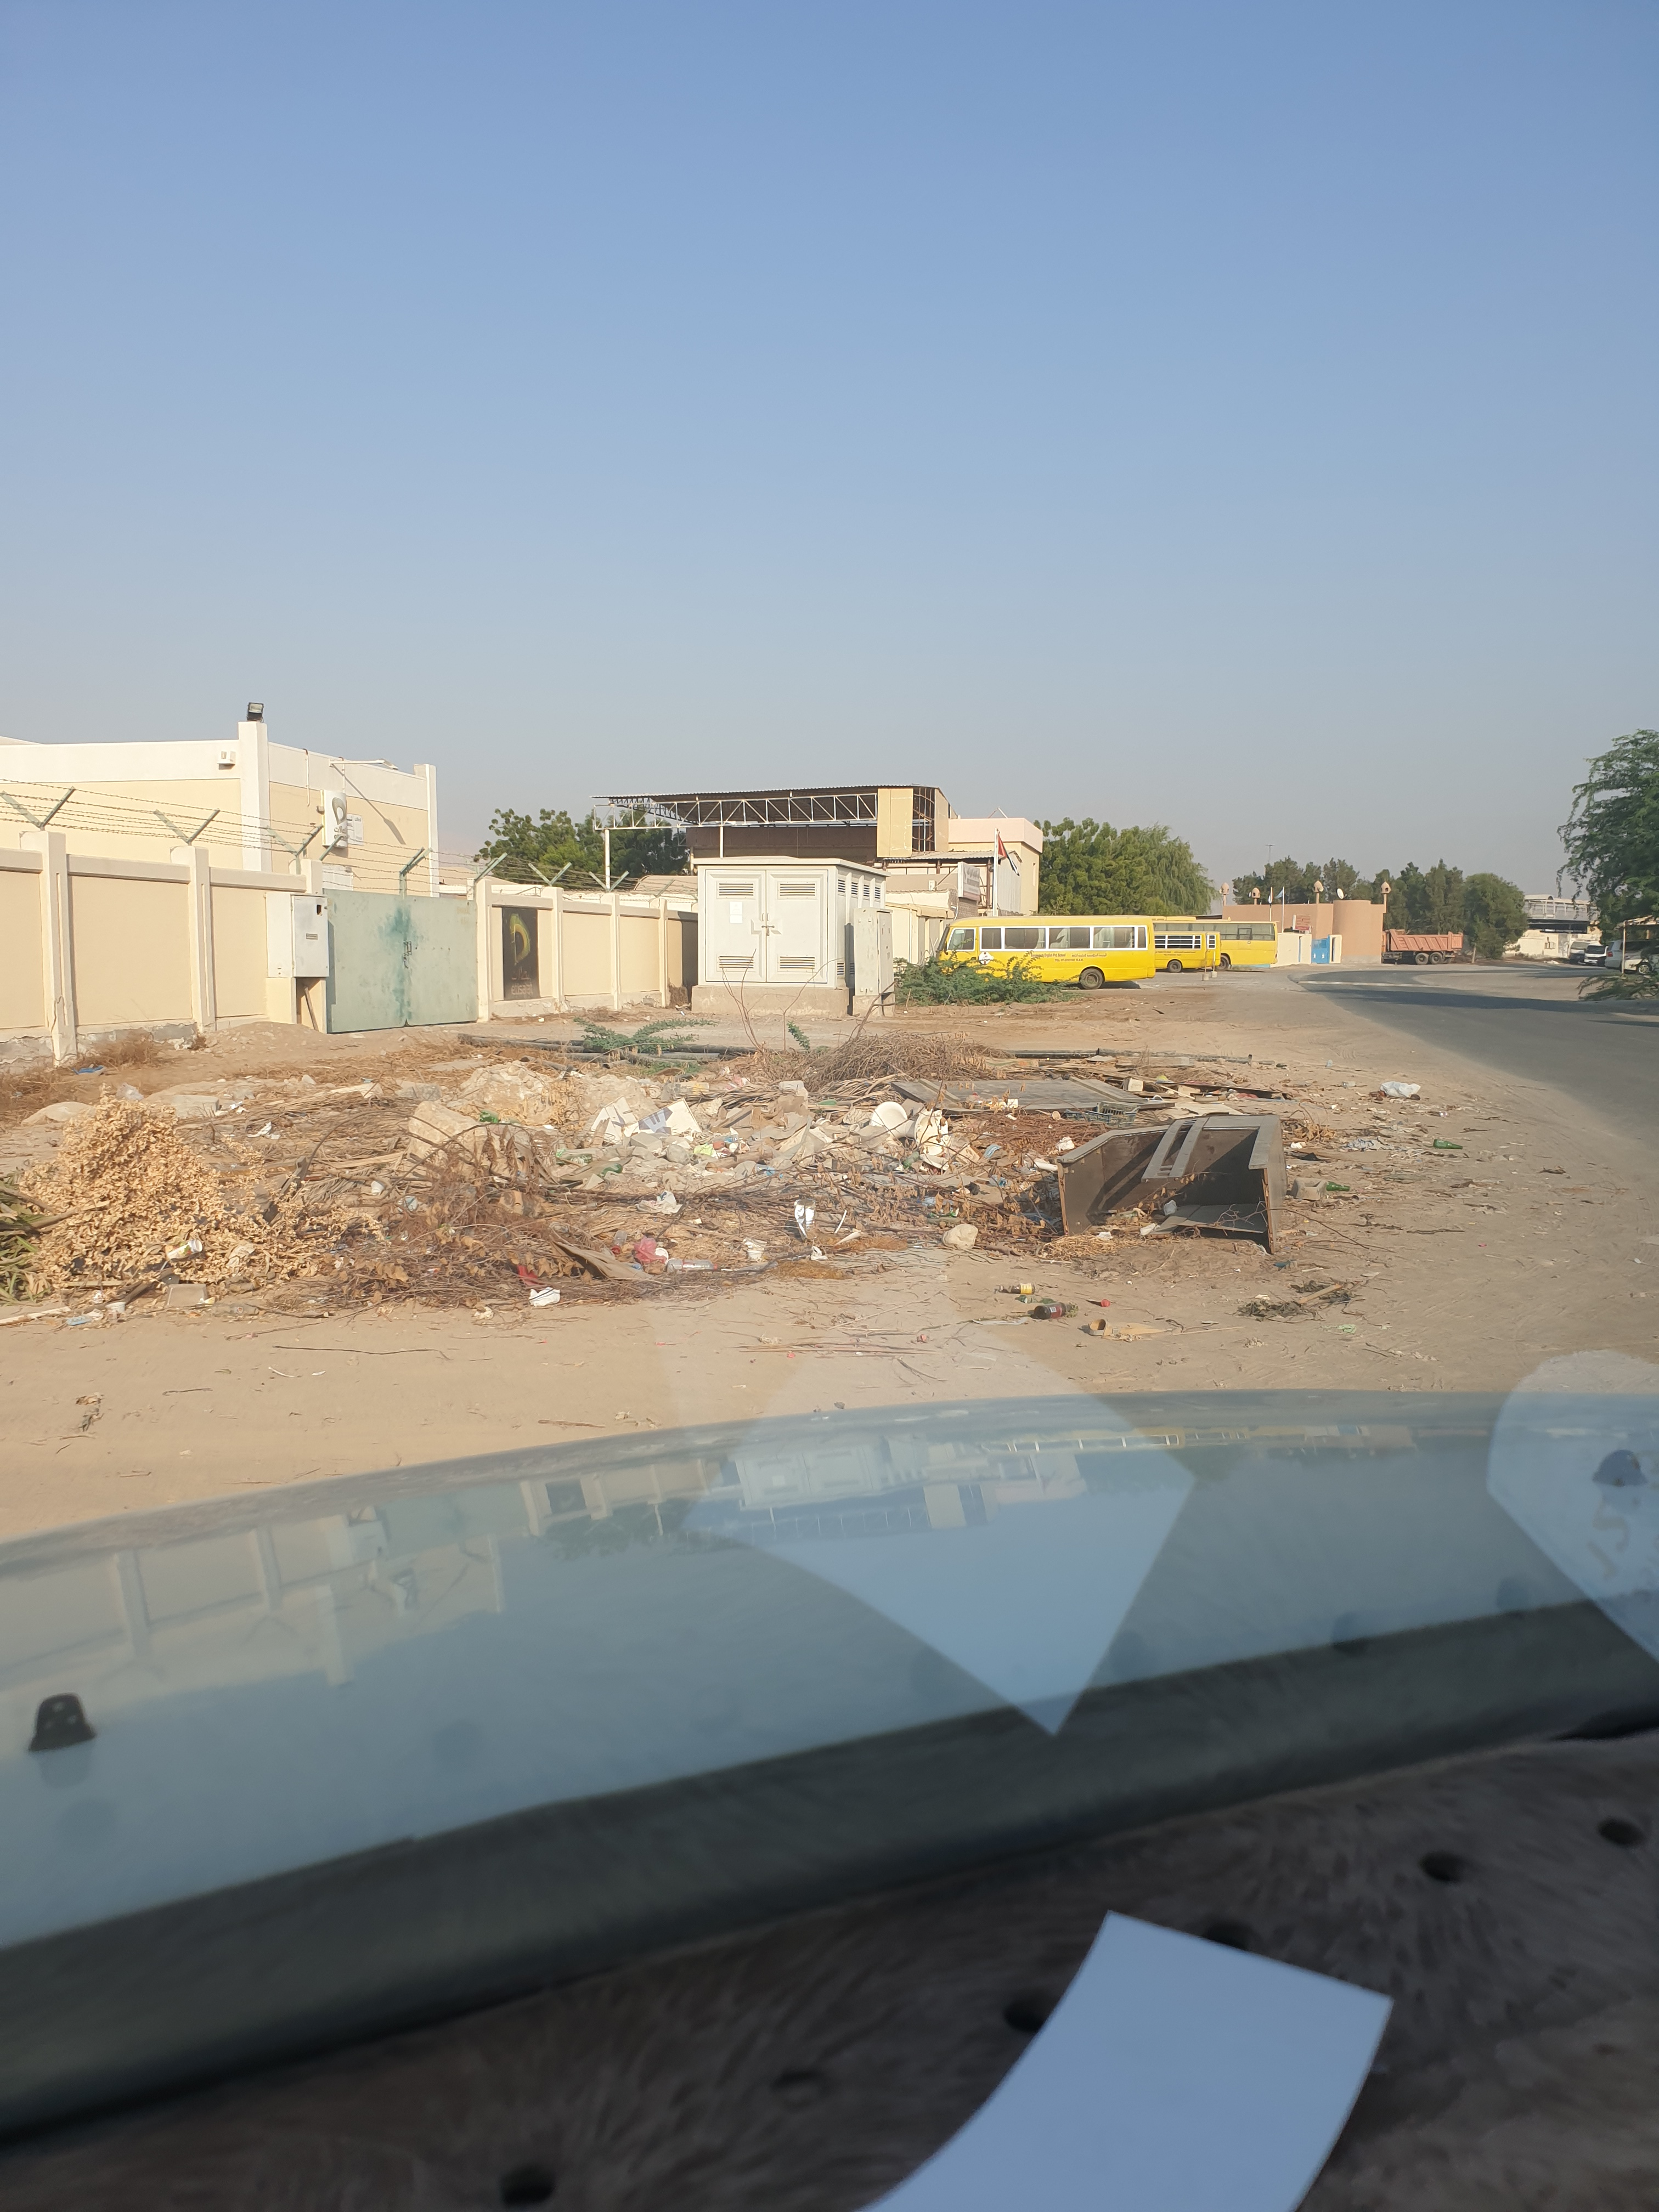fallen_trees: (70, 1106, 392, 1352), (471, 1170, 857, 1327)
uncollected_waste: (955, 1069, 1391, 1294)
